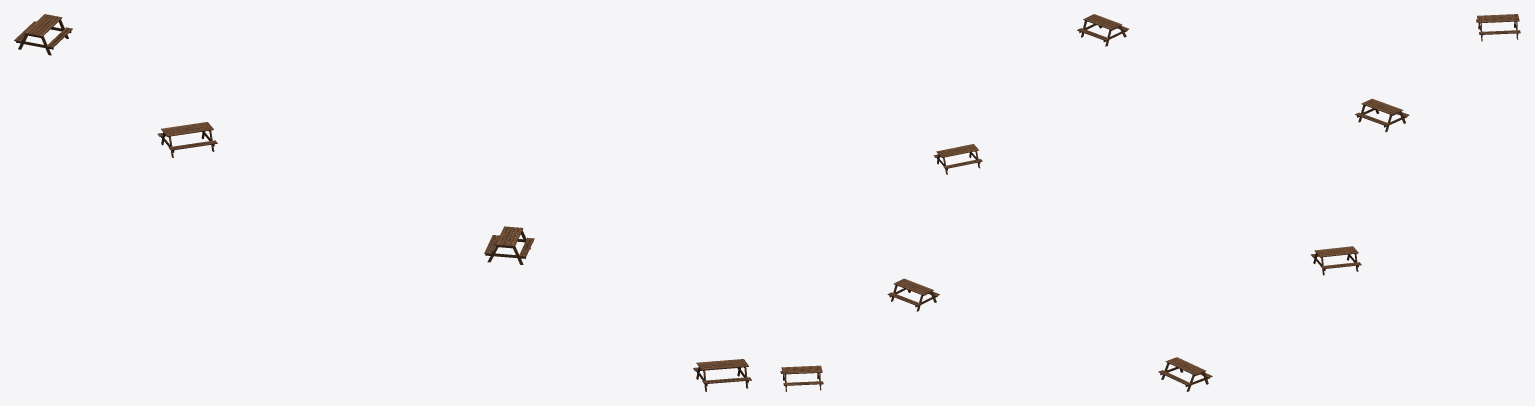
The model's file is Picnic_Benches_COMBO.fbx.
The picture shows the model from 3 angles, left to right: view 1: azimuth 30°, elevation 25°; view 2: azimuth 150°, elevation 25°; view 3: azimuth 330°, elevation 25°; orthographic projection. The views are drawn at different scales.
Visible parts, largest first — view 1: Sun_0039_Park_bench_table; view 2: Sun_0039_Park_bench_table; view 3: Sun_0039_Park_bench_table.
Part boxes in pixels (<box>): Sun_0039_Park_bench_table: <box>14,14,751,391</box>; Sun_0039_Park_bench_table: <box>780,14,1128,391</box>; Sun_0039_Park_bench_table: <box>1158,14,1520,391</box>.
Bounding box in the file's own units: 9.71 × 1.47 × 45.17.
